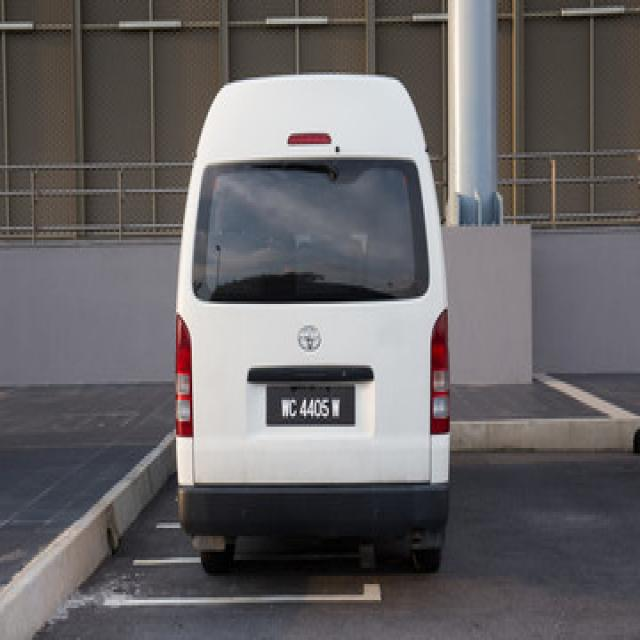van: (174, 75, 448, 573)
